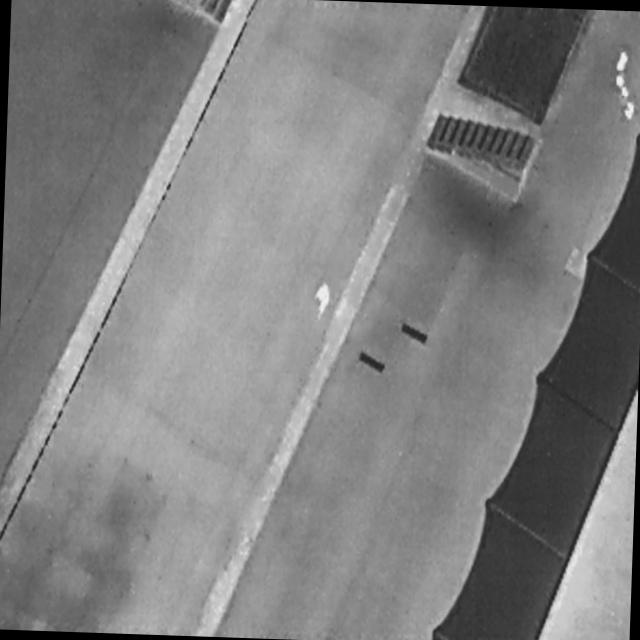person: (311, 278, 335, 324)
